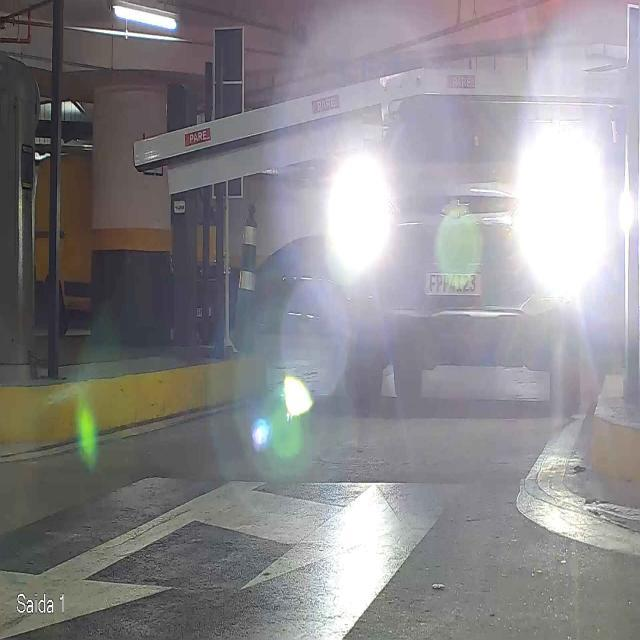mercosul_plate: (420, 260, 484, 298)
